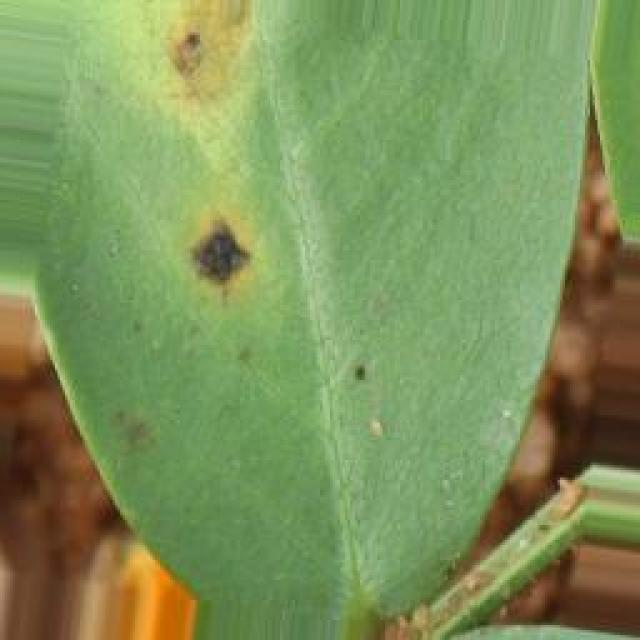Sigatoka: (197, 197, 300, 326), (116, 0, 240, 100), (87, 366, 201, 468), (311, 336, 394, 405)
